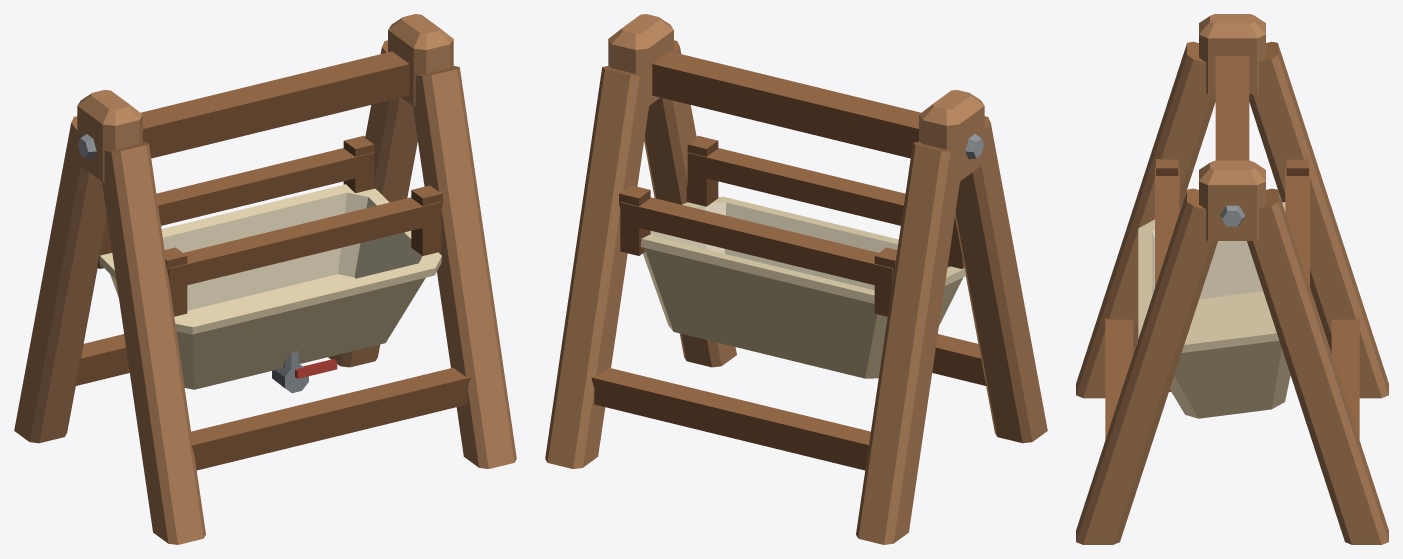
File: FMS_Workshop_FUR_11.fbx
3 views of the same model, side by side, from view 1: azimuth 30°, elevation 25°; view 2: azimuth 150°, elevation 25°; view 3: azimuth 270°, elevation 25° (orthographic). The views are drawn at different scales.
Visible parts, largest first — view 1: FMS_Workshop_FUR_11_Body; view 2: FMS_Workshop_FUR_11_Body; view 3: FMS_Workshop_FUR_11_Body.
Part boxes in pixels (bbox=[...]): FMS_Workshop_FUR_11_Body: bbox=[14, 14, 516, 544]; FMS_Workshop_FUR_11_Body: bbox=[545, 14, 1047, 544]; FMS_Workshop_FUR_11_Body: bbox=[1076, 14, 1388, 544].
Bounding box in the file's own units: 0.728 × 0.73 × 0.5582.
1 material, 1 textured.
